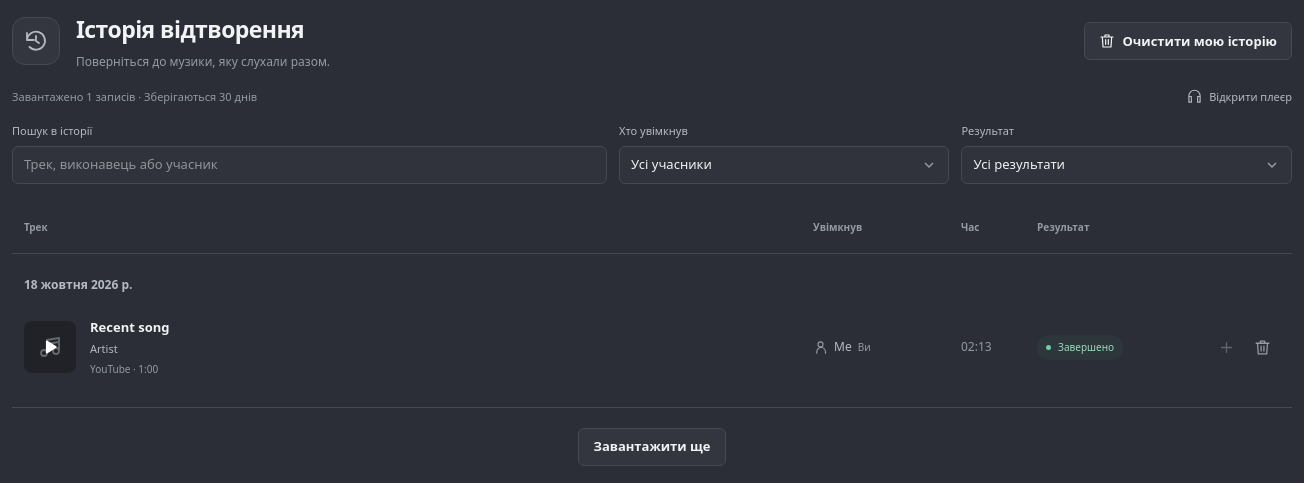
it: Media history interactions › appends older entries once using the timestamp/ID cursor instead of replacing the current page
The width and height of the screenshot is (1304, 483).
Click the button "Завантажити ще".
click(652, 446)  # box [578,428,726,466]
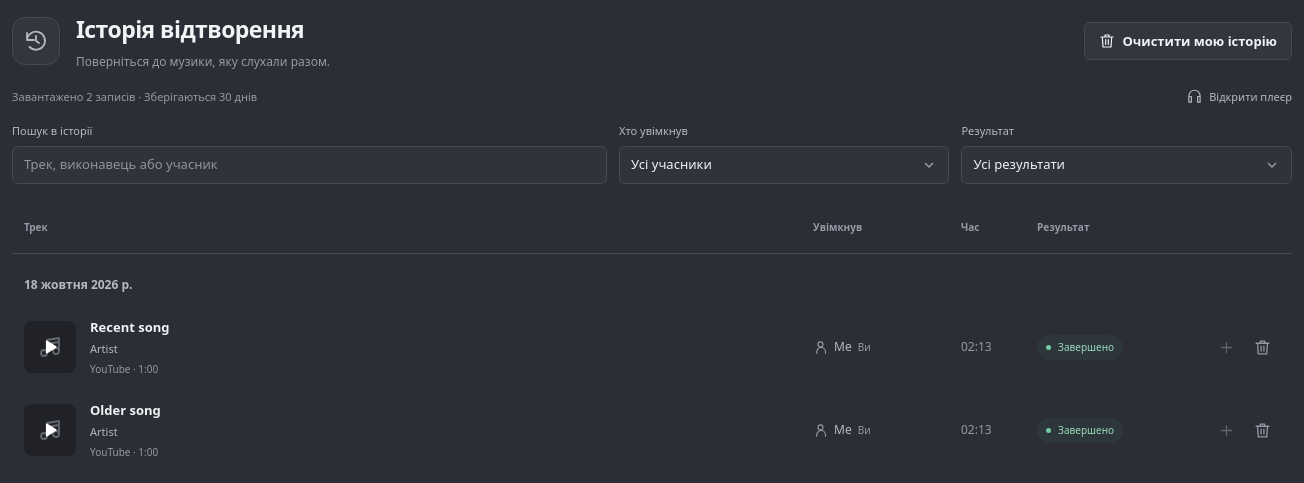
Expected: the text "Recent song" is shown once, [90,318,170,336]
Expected: the text "Older song" is shown, [90,400,161,418]
Expected: the button "Завантажити ще" is gone
